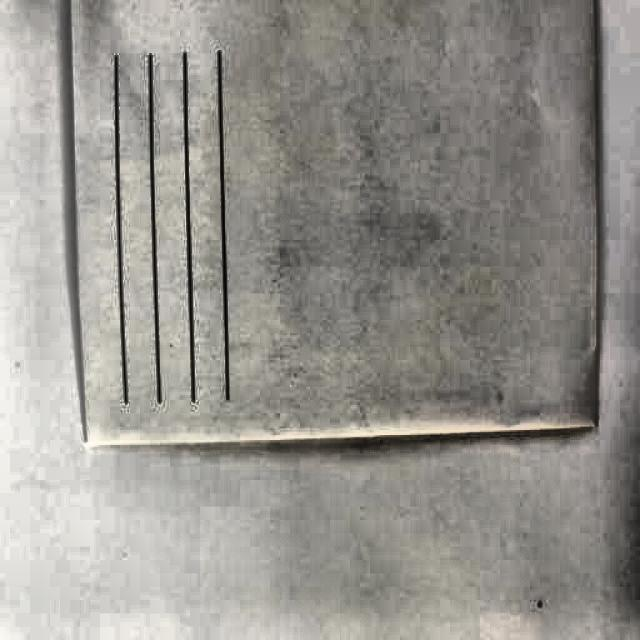paper: (50, 4, 618, 469)
